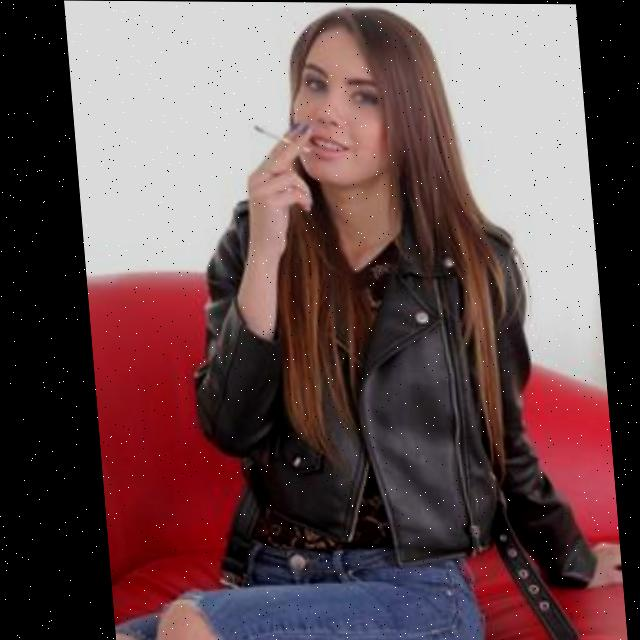cigarette: (254, 126, 289, 147)
